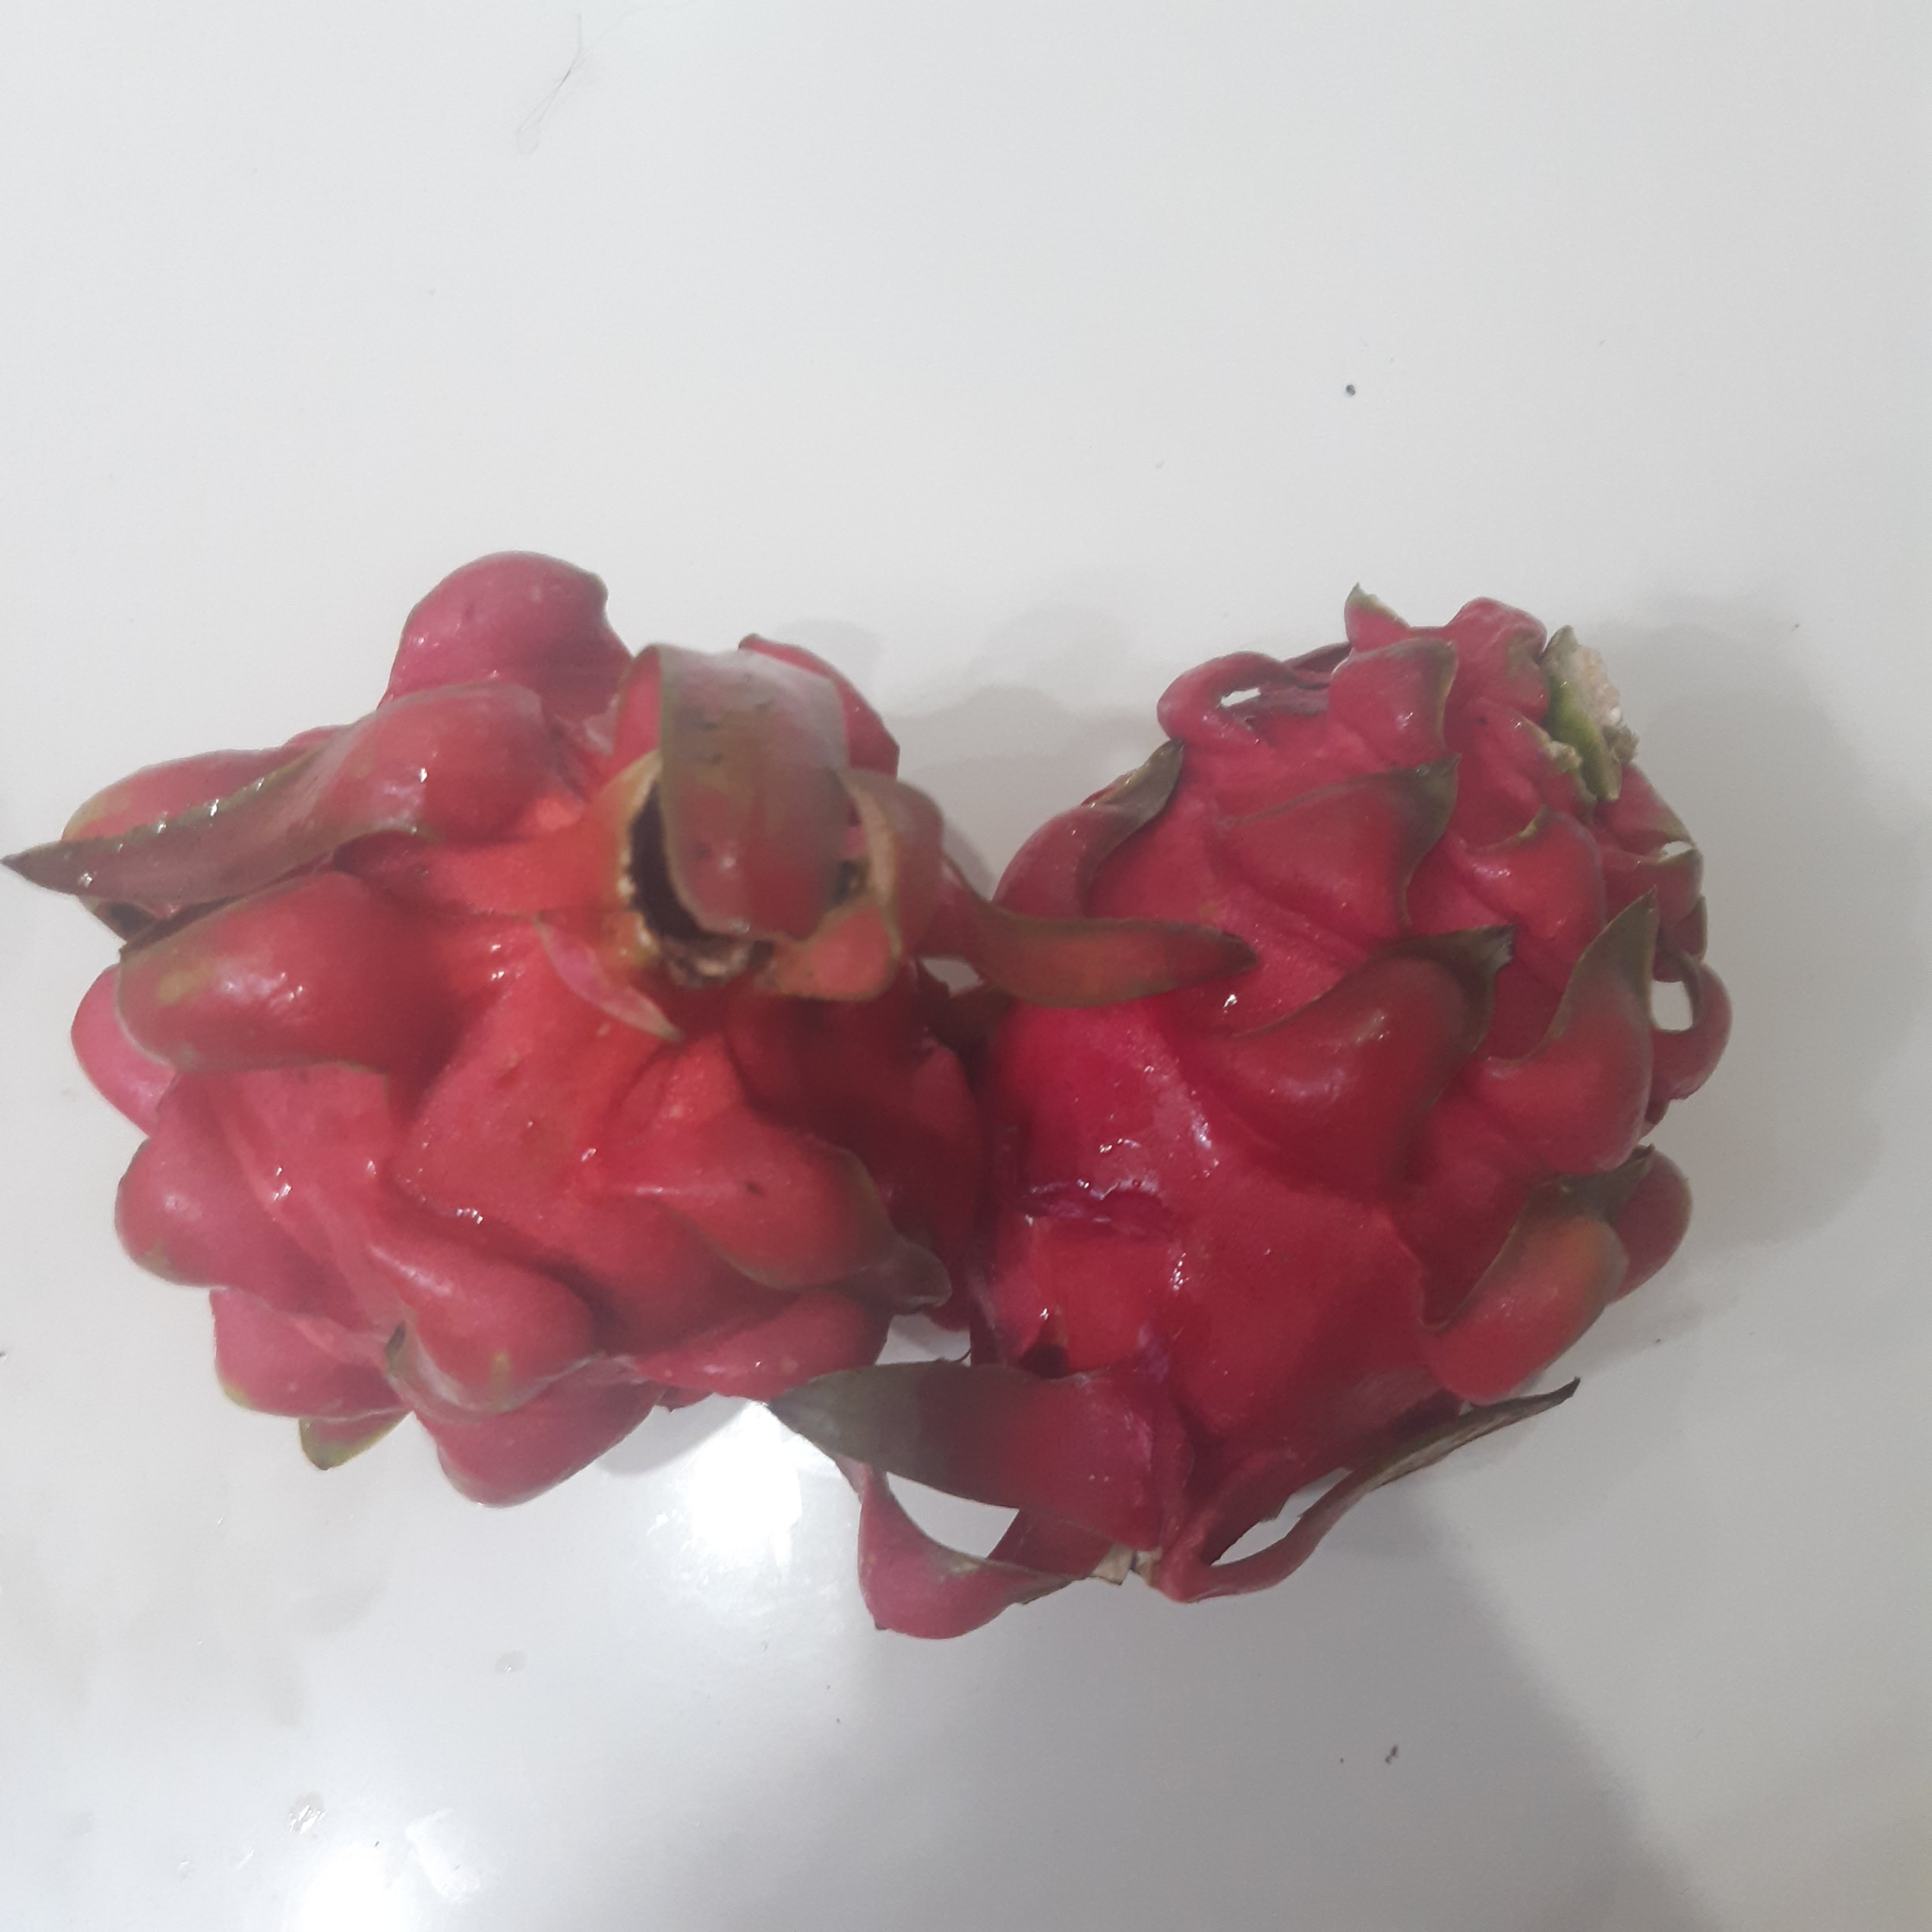Thanh long: (954, 593, 1741, 1592), (83, 656, 971, 1491)
